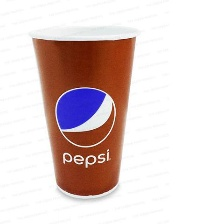paper_cup: (22, 21, 144, 204)
